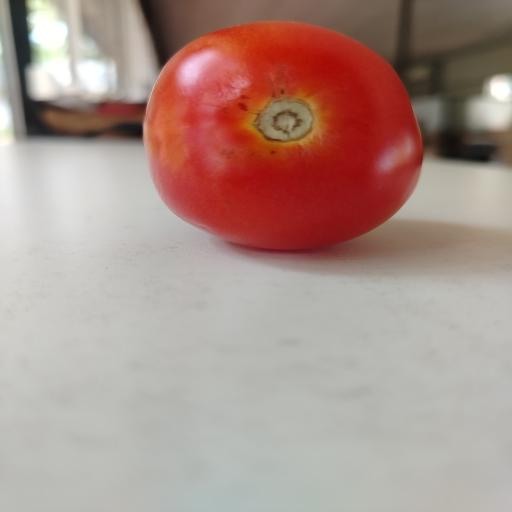ripe: (144, 22, 422, 249)
